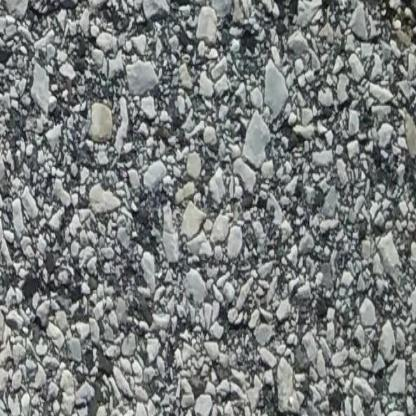Cracks: (346, 0, 416, 71)
